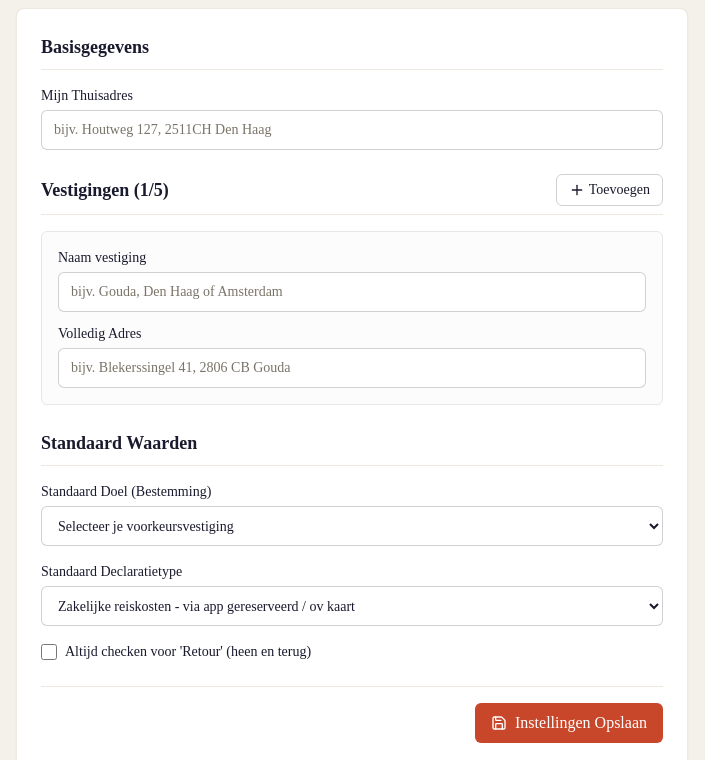
Scenario: InstellingenPage › toont een errormelding als het thuisadres leeg is en je klikt op opslaan
(page scrolled)
Click the button with test id "instellingen-opslaan": [569, 723] box [475, 703, 663, 743]
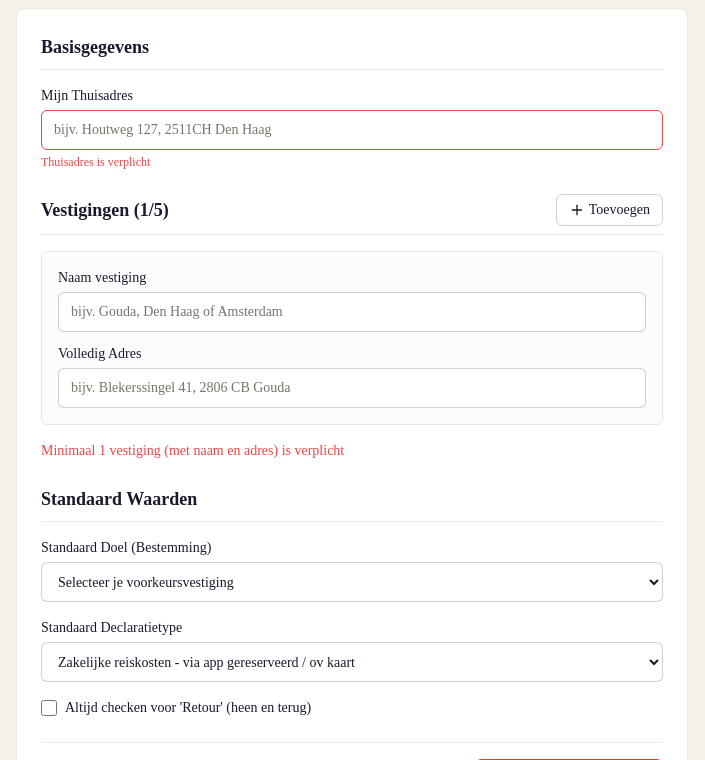
Check: the text "Thuisadres is verplicht" is shown, box [41, 155, 150, 169]
